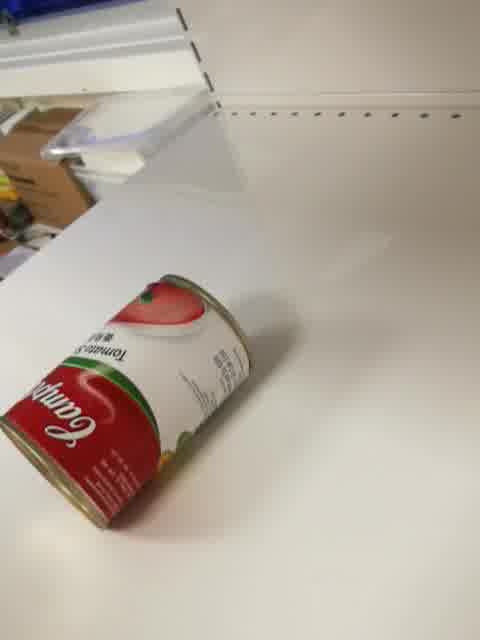tomatosoup: (1, 270, 258, 536)
